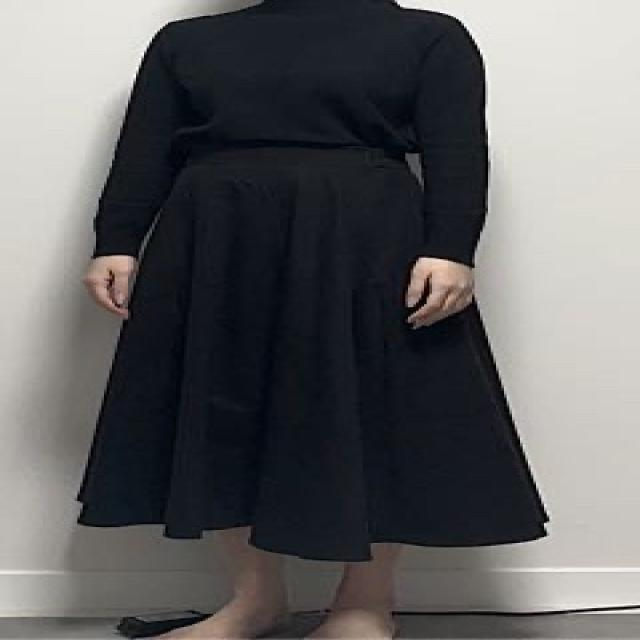longsleeve: (93, 0, 486, 268)
skirt: (73, 135, 553, 570)
